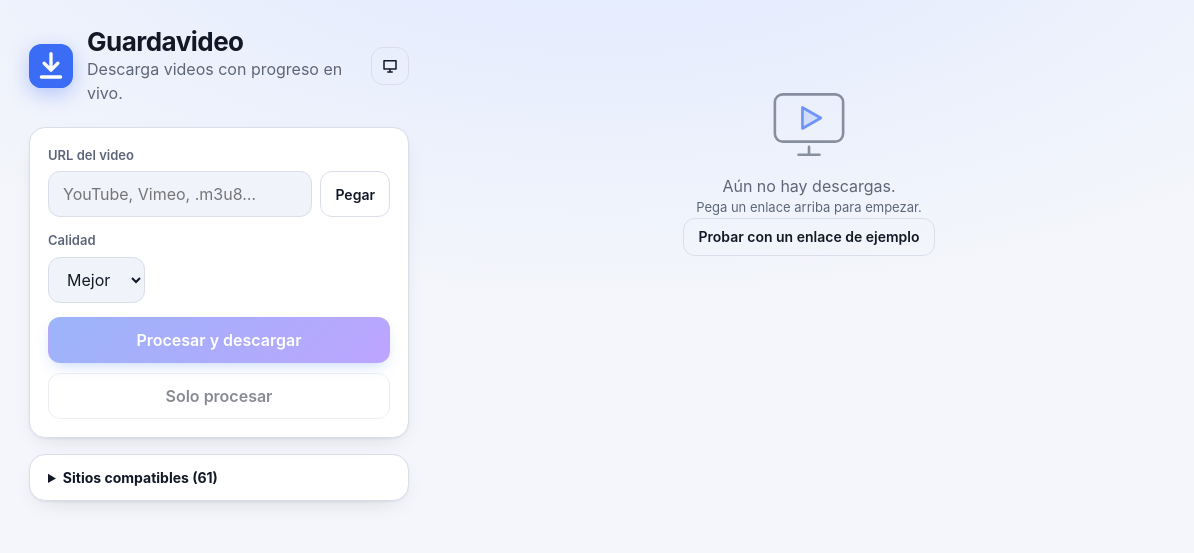
Test case: App (integración con fetch simulado) › crea un job y lo muestra al instante
Expected: the text "Aún no hay descargas." is shown, [722,176,896,196]
Type "https://example.com/v.mp4" into the field labelled "URL del video". click: [180, 194]
box: [48,171,312,217]
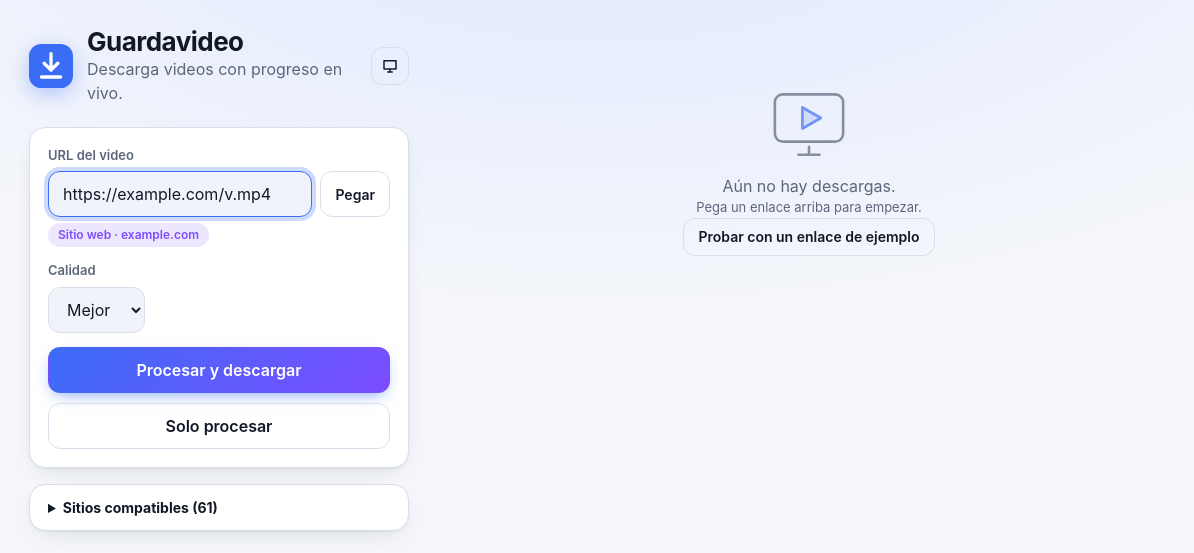
Click the button "Procesar y descargar". click: [219, 370]
box: [48,347,390,393]
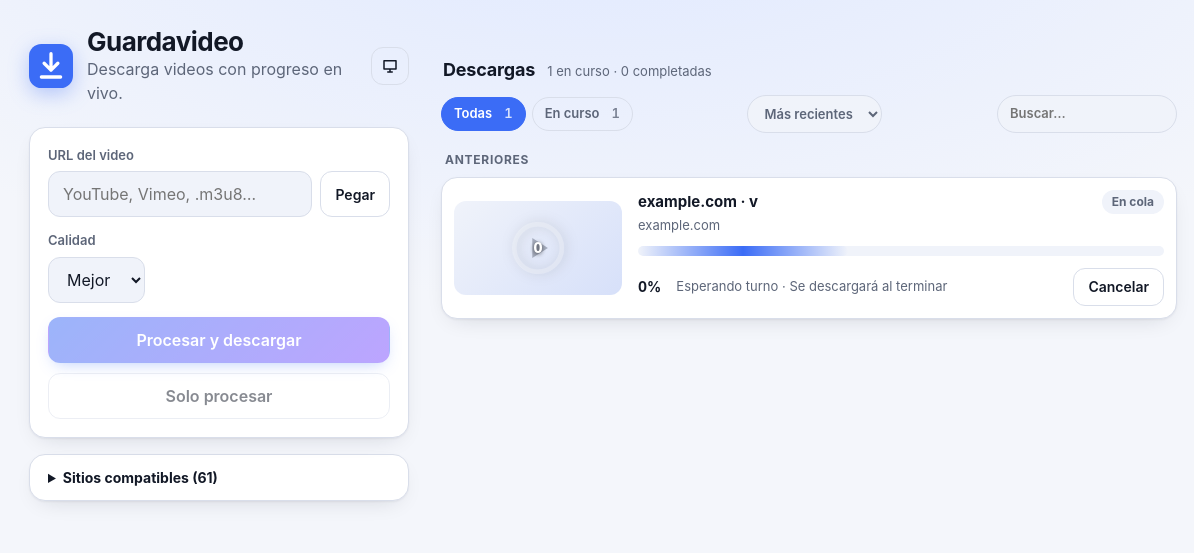
Expected: the text "En cola" is shown, [1102,190,1164,214]
